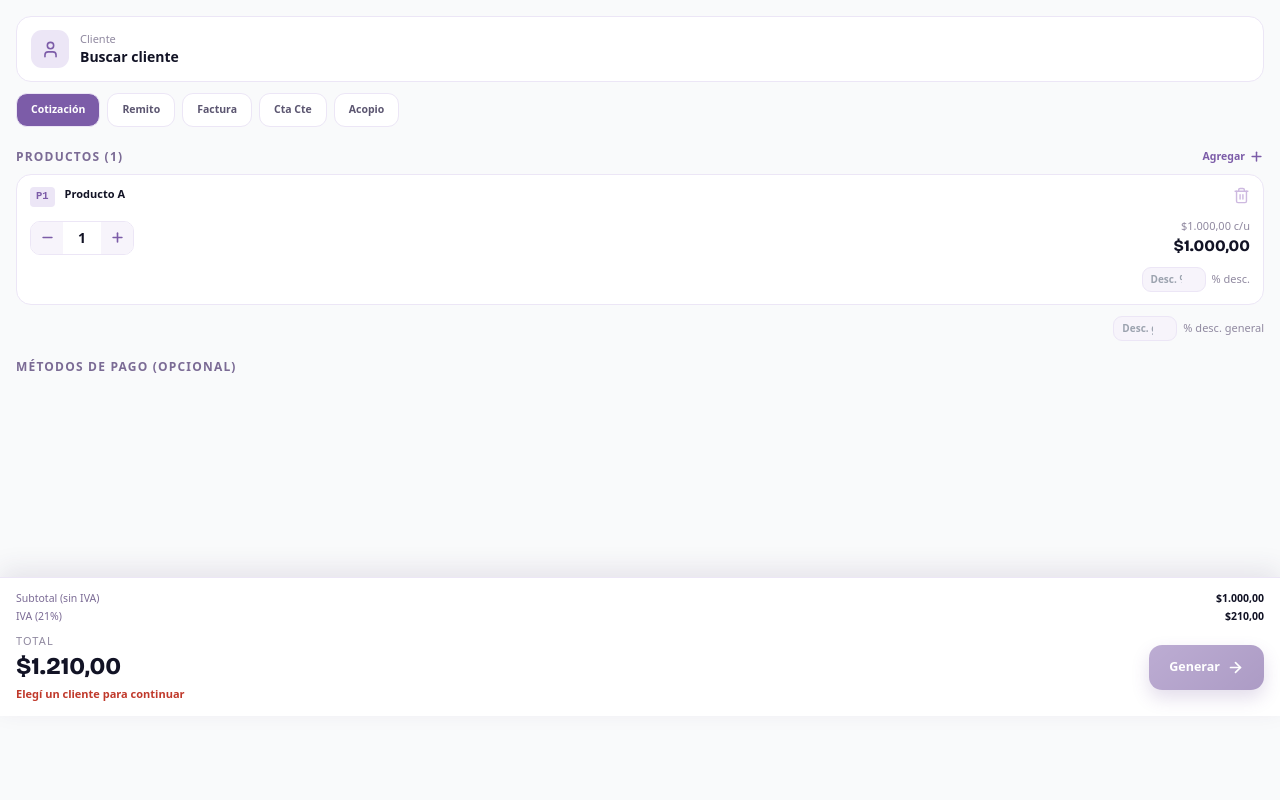
MobileSales — doc-type switching › selects a doc-type chip and changes the CTA label, differing between Cotización and Factura
Expected: the button "Generar" is shown, [1149,645,1264,690]
Click the button "Factura". click: (217, 110)
box: [182,93,252,127]
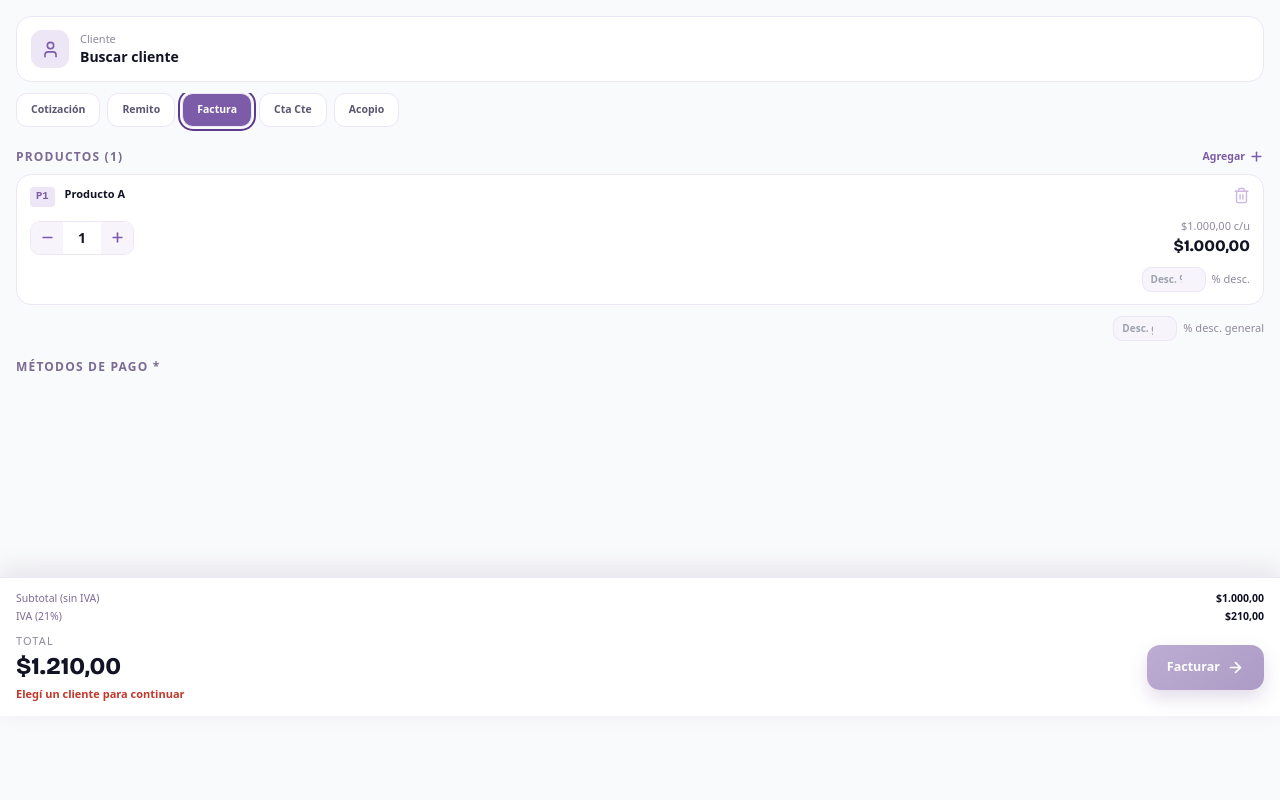
Expected: the button "Facturar" is shown, [1147,645,1264,690]
